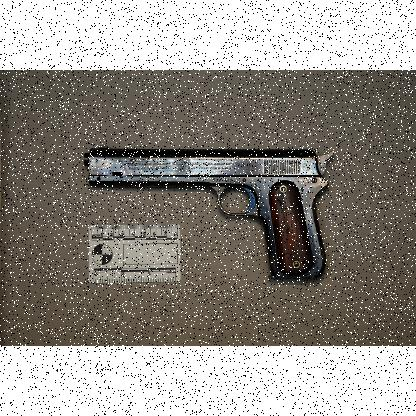gun: (84, 143, 334, 279)
